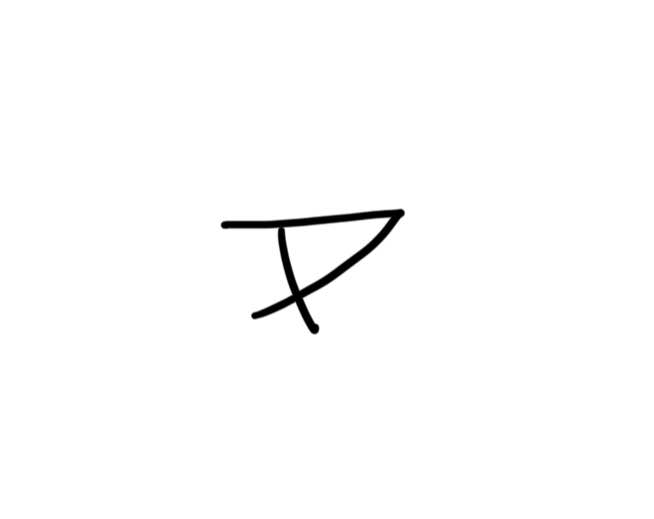nu: (216, 205, 408, 340)
